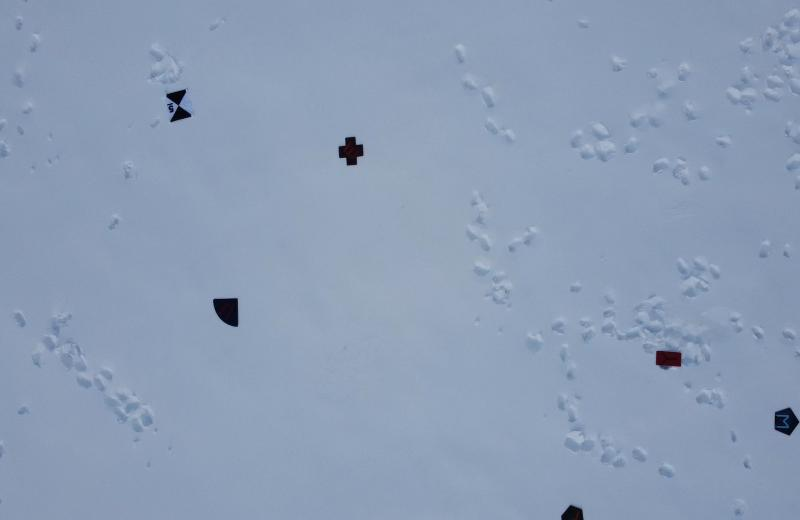Cross: (336, 134, 364, 170)
Hexagon: (559, 496, 587, 520)
Pentagon: (772, 402, 800, 448)
Quarter Circle: (209, 293, 241, 331)
Rectangle: (1, 1, 800, 520), (654, 340, 685, 374)
